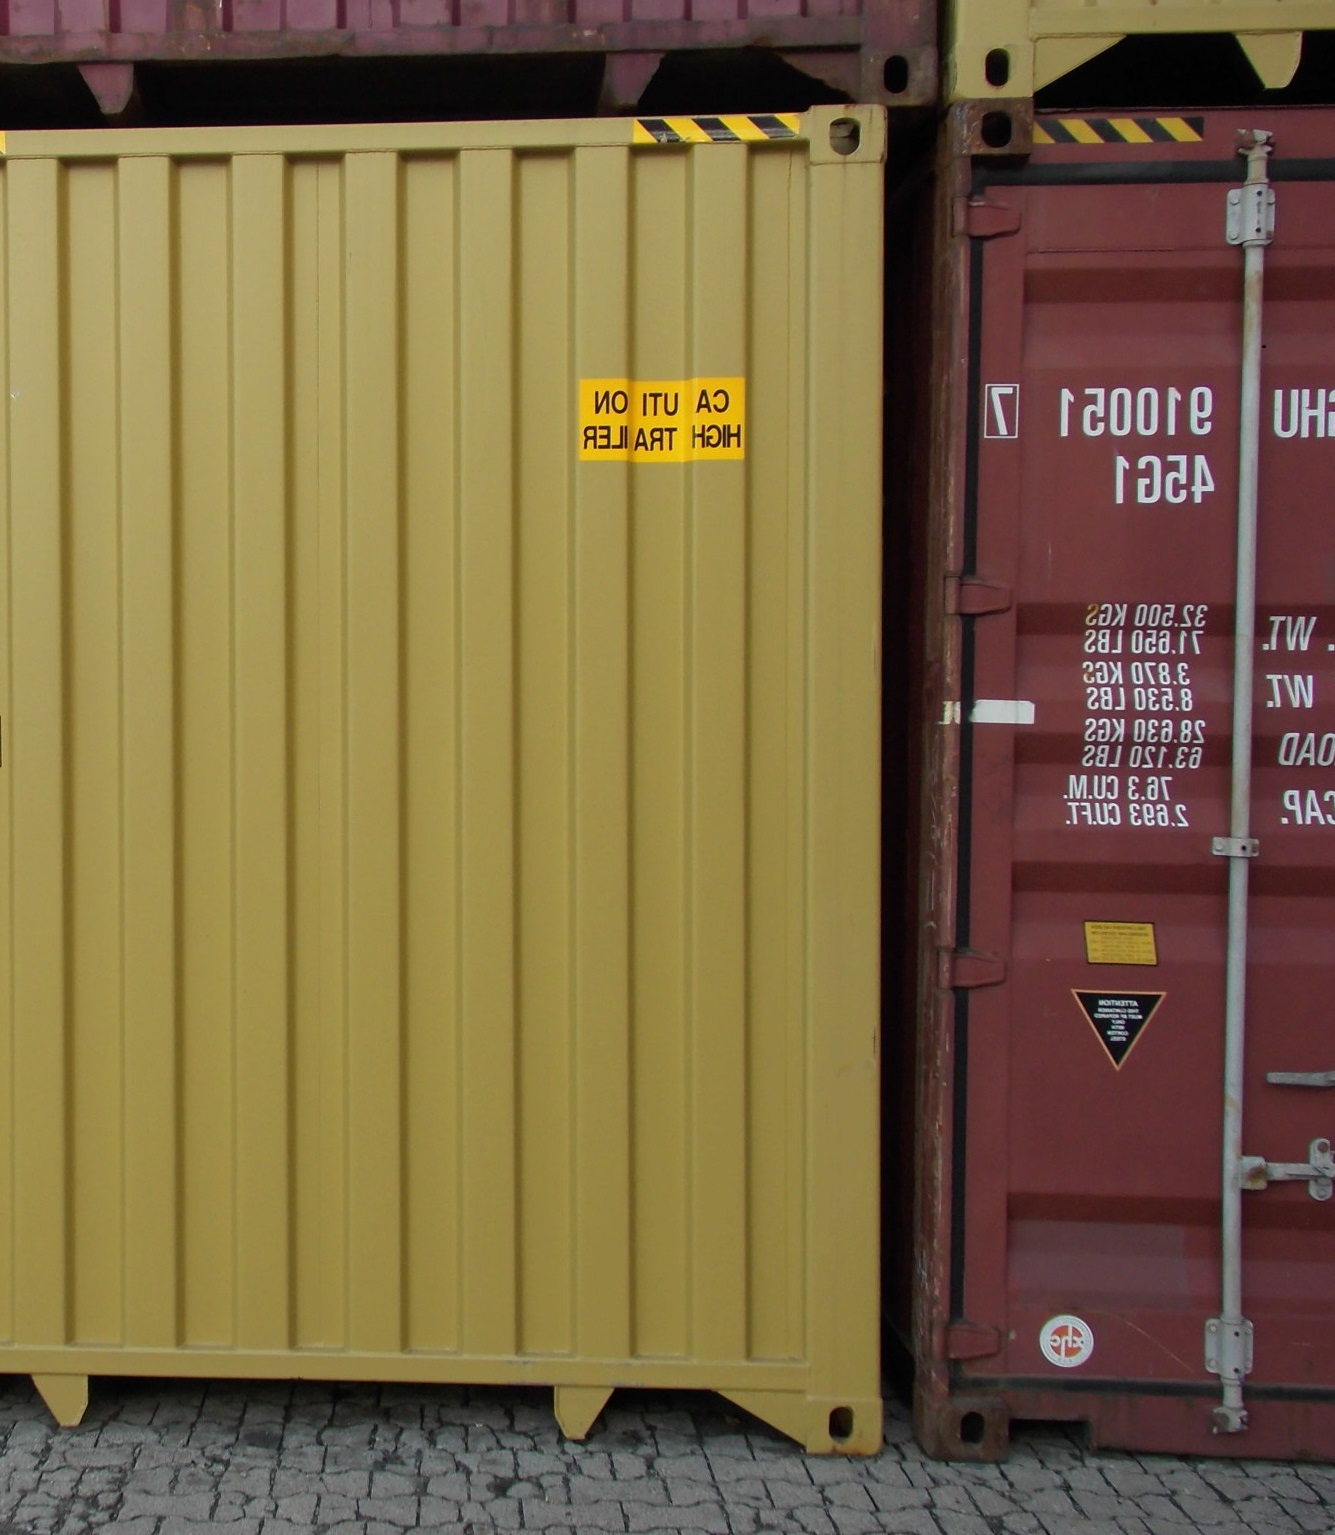container_door: (930, 101, 1334, 1466)
container_no_door: (7, 107, 889, 1441)
